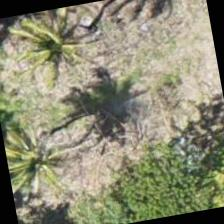Kelapa_Sawit: (6, 2, 108, 92), (0, 105, 85, 207)
